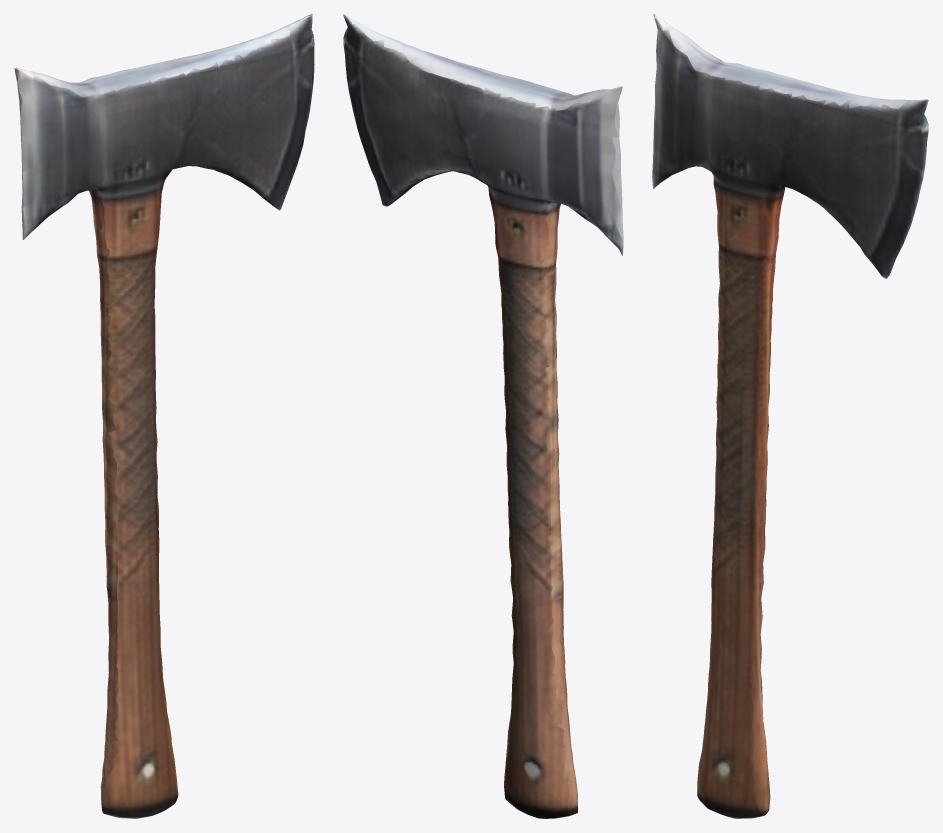
The model's file is tmpgx5l5uvd.glb.
The picture shows the model from 3 angles, left to right: view 1: azimuth 30°, elevation 25°; view 2: azimuth 150°, elevation 25°; view 3: azimuth 330°, elevation 25°; orthographic projection.
Visible parts, largest first — view 1: world; view 2: world; view 3: world.
Boxes of the visible parts, bbox=[...] form: world: bbox=[14, 14, 314, 818]; world: bbox=[343, 14, 623, 818]; world: bbox=[652, 14, 928, 818].
Bounding box in the file's own units: 0.3872 × 0.9741 × 0.0952.
1 material, 1 textured.
